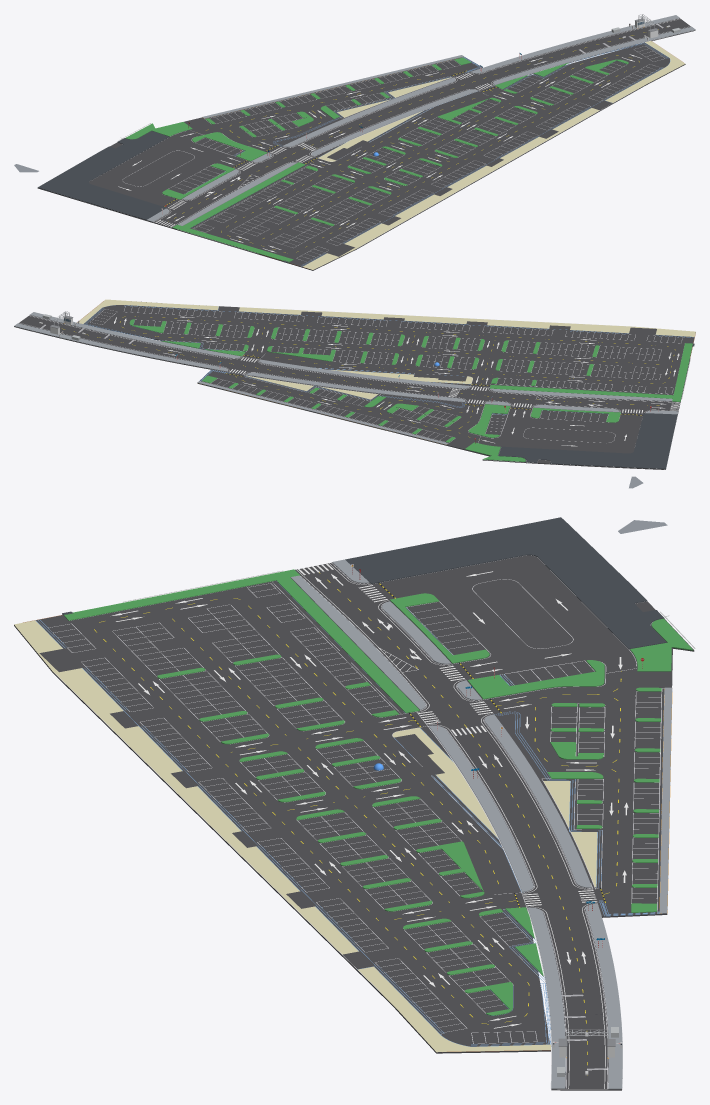
The model's file is 3d-jutsu-Bai-do-xe-bien-bao-3D-2026-11-20-08-22-49.glb.
The picture shows the model from 3 angles, top to bottom: view 1: azimuth 30°, elevation 25°; view 2: azimuth 150°, elevation 25°; view 3: azimuth 270°, elevation 25°; orthographic projection. The views are drawn at different scales.
Visible parts, largest first — view 1: LOT_ground_z0, LOT_grass_raised, LOT_island_VH_loai2_raised, LOT_hatch_ANGLE_yellow_pending, LOT_granite_sidewalk_raised, LOT_stall_lines_outlines, LOT_ditch_lines, LOT_arrow_marks, LOT_road_paint_white, LOT_road_paint_yellow_11, LOT_crosswalk_stripes; view 2: LOT_ground_z0, LOT_grass_raised, LOT_island_VH_loai2_raised, LOT_stall_lines_outlines, LOT_hatch_ANGLE_yellow_pending, LOT_granite_sidewalk_raised, LOT_ditch_lines, LOT_arrow_marks, LOT_road_paint_white, LOT_road_paint_yellow_11, LOT_crosswalk_stripes; view 3: LOT_ground_z0, LOT_grass_raised, LOT_island_VH_loai2_raised, LOT_stall_lines_outlines, LOT_hatch_ANGLE_yellow_pending, LOT_granite_sidewalk_raised, LOT_ditch_lines, LOT_arrow_marks, LOT_road_paint_white, LOT_road_paint_yellow_11, LOT_crosswalk_stripes.
Part boxes in pixels (x1=…): LOT_ground_z0: x1=37, y1=18, x2=695, y2=270; LOT_grass_raised: x1=125, y1=57, x2=628, y2=262; LOT_island_VH_loai2_raised: x1=147, y1=15, x2=695, y2=225; LOT_hatch_ANGLE_yellow_pending: x1=303, y1=41, x2=685, y2=269; LOT_granite_sidewalk_raised: x1=37, y1=131, x2=169, y2=219; LOT_stall_lines_outlines: x1=116, y1=18, x2=695, y2=260; LOT_ditch_lines: x1=195, y1=42, x2=670, y2=266; LOT_arrow_marks: x1=118, y1=54, x2=641, y2=252; LOT_road_paint_white: x1=155, y1=19, x2=690, y2=227; LOT_road_paint_yellow_11: x1=168, y1=29, x2=658, y2=252; LOT_crosswalk_stripes: x1=156, y1=73, x2=492, y2=227; LOT_ground_z0: x1=14, y1=301, x2=695, y2=469; LOT_grass_raised: x1=129, y1=319, x2=692, y2=461; LOT_island_VH_loai2_raised: x1=14, y1=312, x2=678, y2=444; LOT_stall_lines_outlines: x1=19, y1=304, x2=682, y2=469; LOT_hatch_ANGLE_yellow_pending: x1=77, y1=299, x2=695, y2=399; LOT_granite_sidewalk_raised: x1=498, y1=413, x2=677, y2=468; LOT_ditch_lines: x1=84, y1=305, x2=694, y2=415; LOT_arrow_marks: x1=114, y1=316, x2=679, y2=446; LOT_road_paint_white: x1=20, y1=315, x2=679, y2=412; LOT_road_paint_yellow_11: x1=62, y1=316, x2=675, y2=437; LOT_crosswalk_stripes: x1=229, y1=357, x2=679, y2=413; LOT_ground_z0: x1=14, y1=539, x2=694, y2=1090; LOT_grass_raised: x1=63, y1=569, x2=693, y2=1015; LOT_island_VH_loai2_raised: x1=290, y1=559, x2=672, y2=1089; LOT_stall_lines_outlines: x1=48, y1=555, x2=664, y2=1089; LOT_hatch_ANGLE_yellow_pending: x1=14, y1=620, x2=597, y2=1052; LOT_granite_sidewalk_raised: x1=345, y1=517, x2=666, y2=649; LOT_ditch_lines: x1=35, y1=581, x2=662, y2=1046; LOT_arrow_marks: x1=112, y1=571, x2=628, y2=1028; LOT_road_paint_white: x1=296, y1=563, x2=605, y2=1089; LOT_road_paint_yellow_11: x1=94, y1=572, x2=621, y2=1075; LOT_crosswalk_stripes: x1=298, y1=563, x2=597, y2=905.
Size of the model in its own units: 264 by 6.1 by 133.
